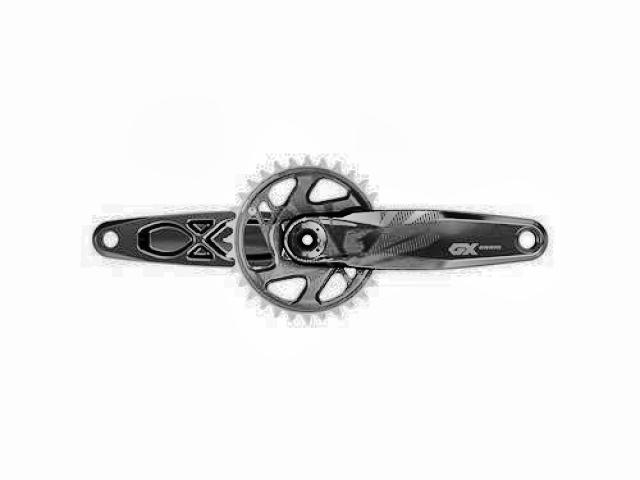cranks_set: (229, 157, 548, 326)
